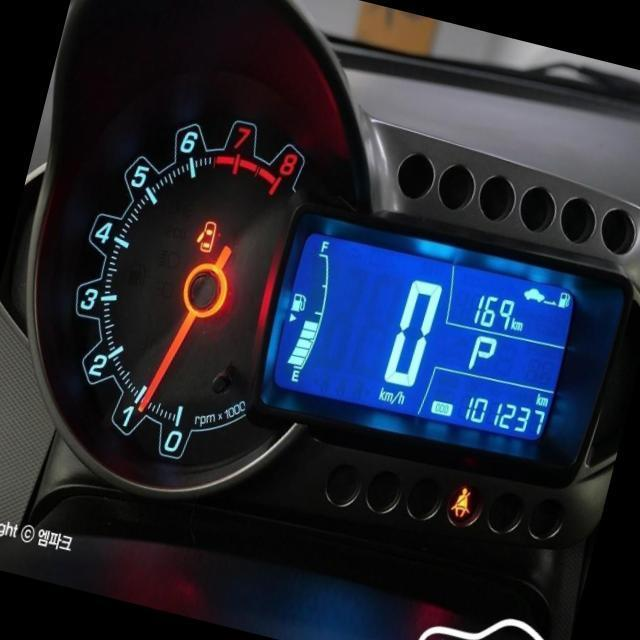Doors: (192, 216, 218, 253)
